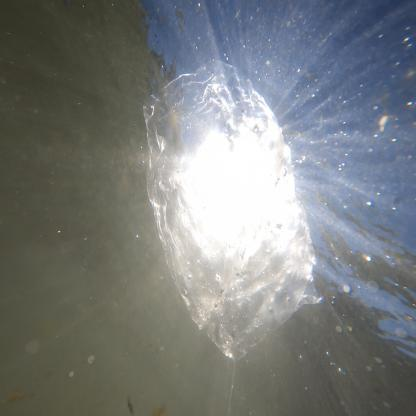Rác: (137, 63, 329, 344)
